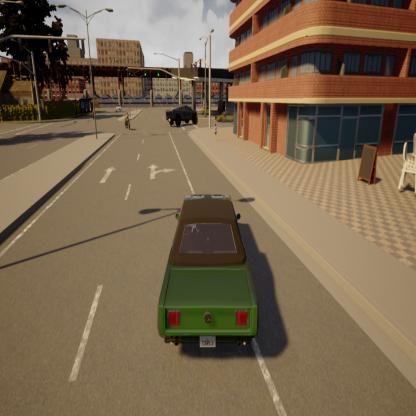Cars: (145, 181, 265, 360), (164, 102, 198, 131), (212, 107, 242, 125)
Pedestrian: (212, 120, 220, 142)
